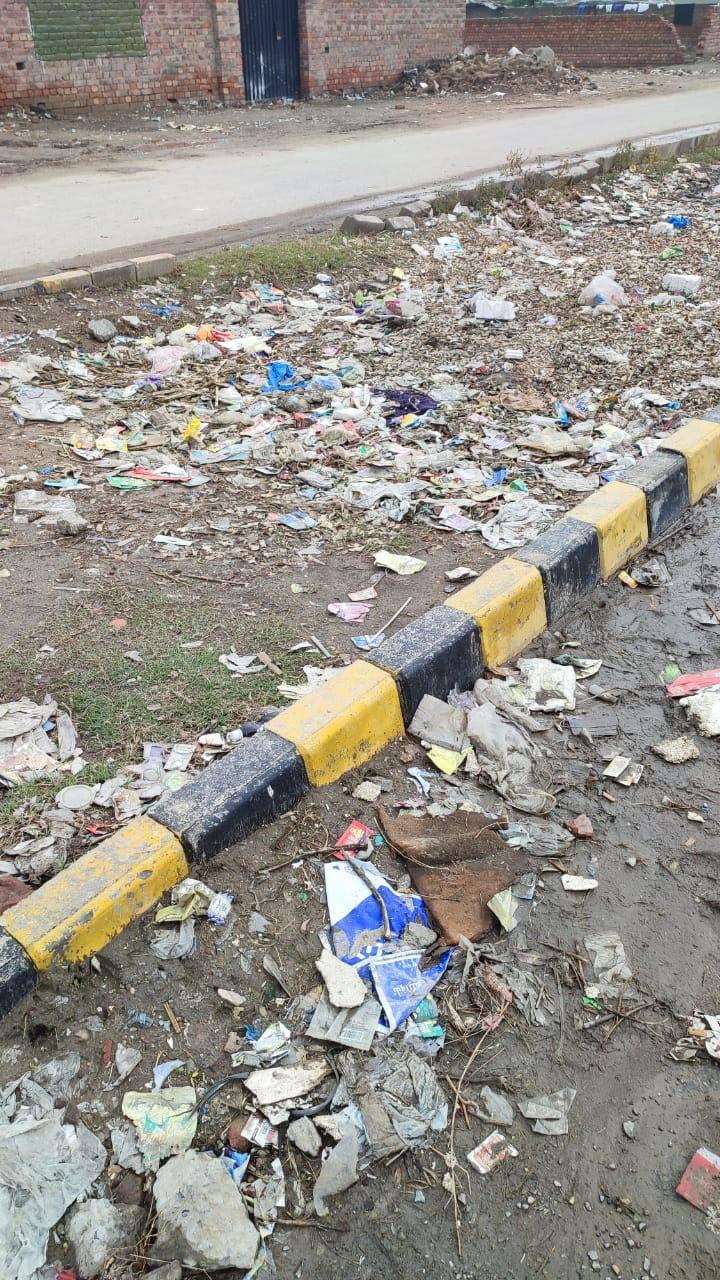garbage: (85, 148, 720, 534)
